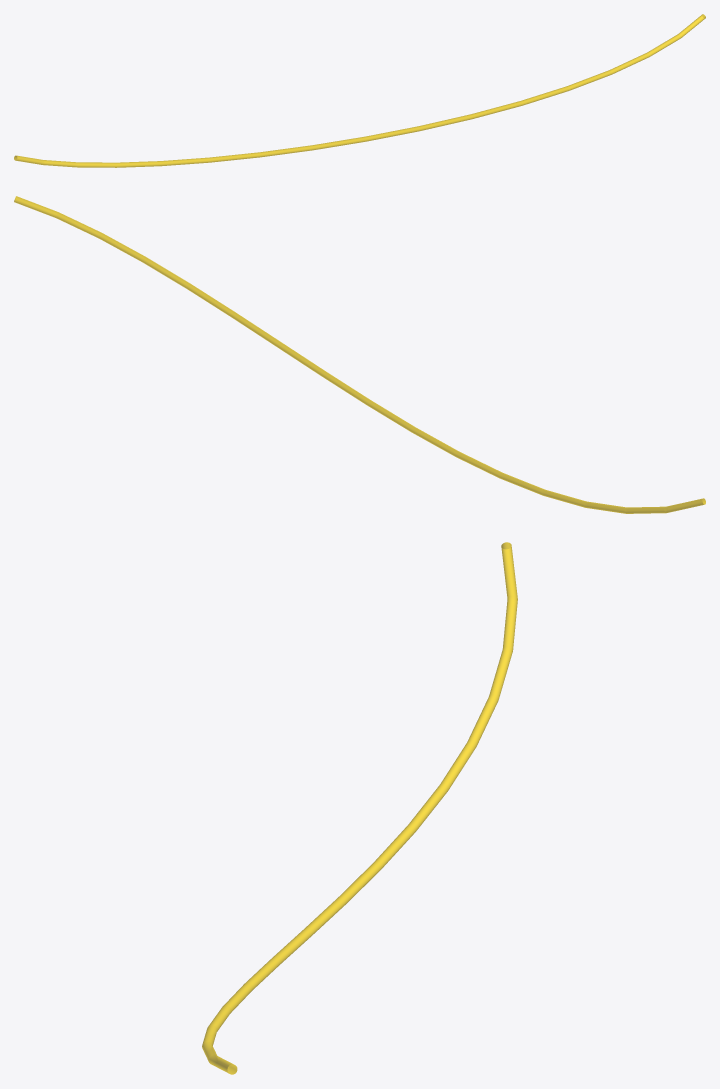
File: Event_15818458_track_49.fbx
3 views of the same model, one above another, from view 1: azimuth 30°, elevation 25°; view 2: azimuth 150°, elevation 25°; view 3: azimuth 270°, elevation 25° (orthographic). The views are drawn at different scales.
Visible parts, largest first — view 1: Model; view 2: Model; view 3: Model.
Part boxes in pixels (x1,y1,x2,y2): Model: (14, 14, 705, 167); Model: (14, 196, 705, 513); Model: (202, 542, 517, 1074).
Size of the model in its own units: 5.5 by 0.6705 by 1.21.
